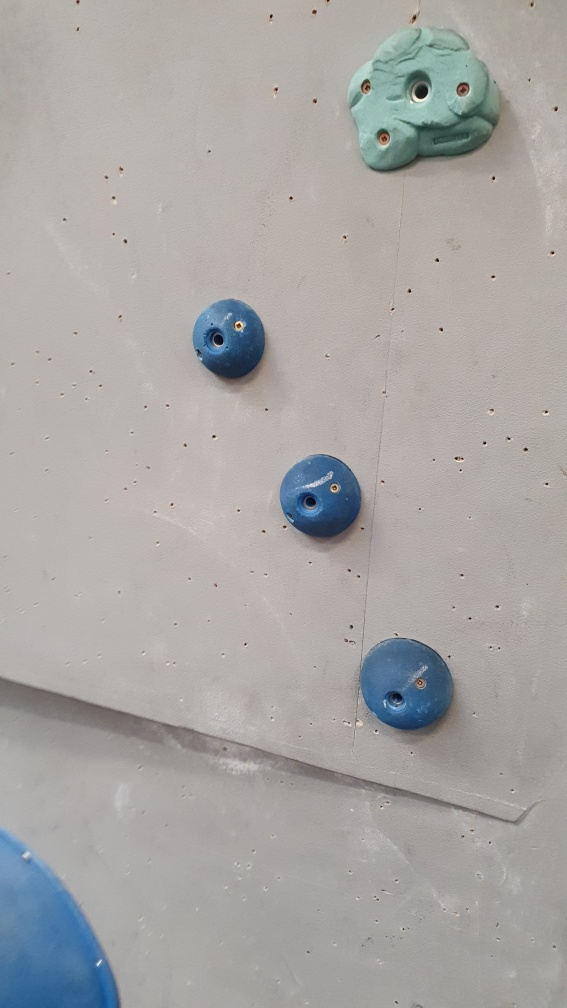Sloper: (354, 630, 462, 736), (275, 447, 372, 545), (187, 296, 279, 385)
